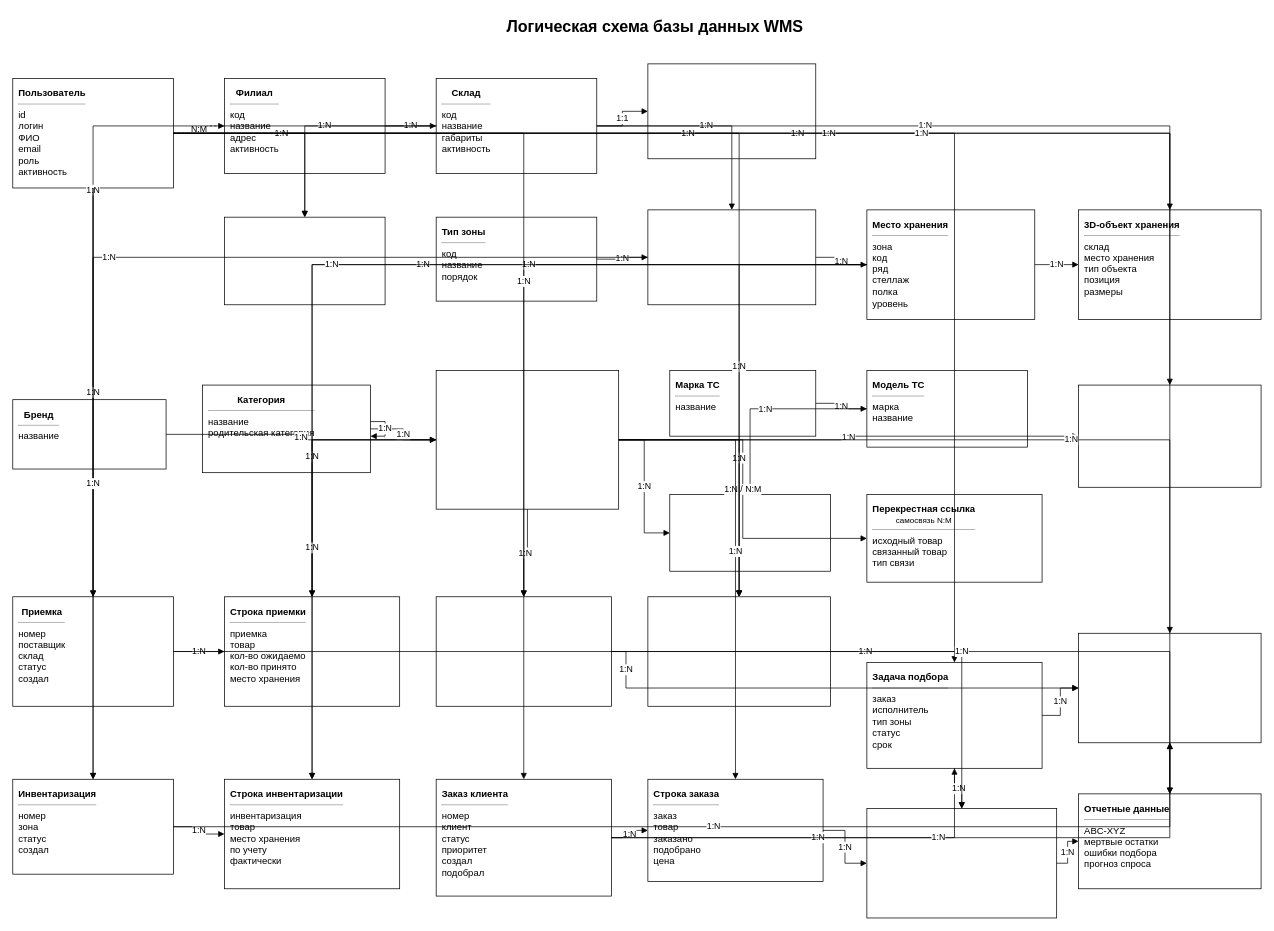
Image size: 1274x931. Some labels were removed from this diagram. Each missing label, with the box of its shape:
Геометрия склада 1:1 со складом склад контур пола координаты ворот: (647, 63, 816, 159)
Движение товара товар количество откуда куда тип операции пользователь: (647, 596, 830, 706)
Доступ к складу связующая сущность пользователь склад уровень доступа: (224, 216, 385, 305)
Журнал изменения товара товар пользователь действие измененные поля: (1078, 384, 1261, 487)
Зона хранения склад тип зоны код название: (647, 209, 816, 305)
Остаток товар место хранения доступно зарезервировано партия: (435, 596, 611, 706)
Применимость товара связь N:M товар модель ТС: (669, 494, 830, 571)
Складская задача тип статус приоритет исполнитель связанный документ: (1078, 633, 1261, 743)
Строка подбора задача строка заказа остаток подобрано сканированный OEM: (866, 808, 1057, 918)
Товар артикул наименование OEM аналог штрихкод тип упаковки габариты: (435, 370, 619, 509)
